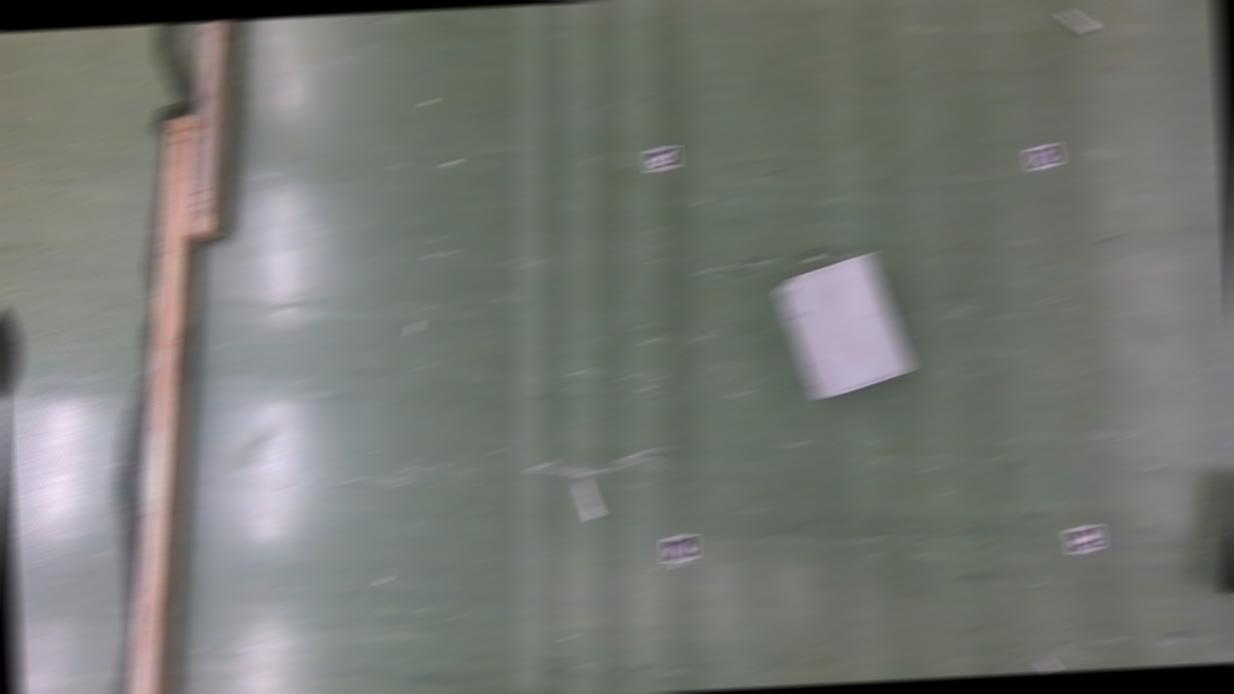probes: (574, 479, 600, 522), (1058, 7, 1094, 34), (1038, 658, 1068, 672)
rako: (773, 253, 914, 401)
